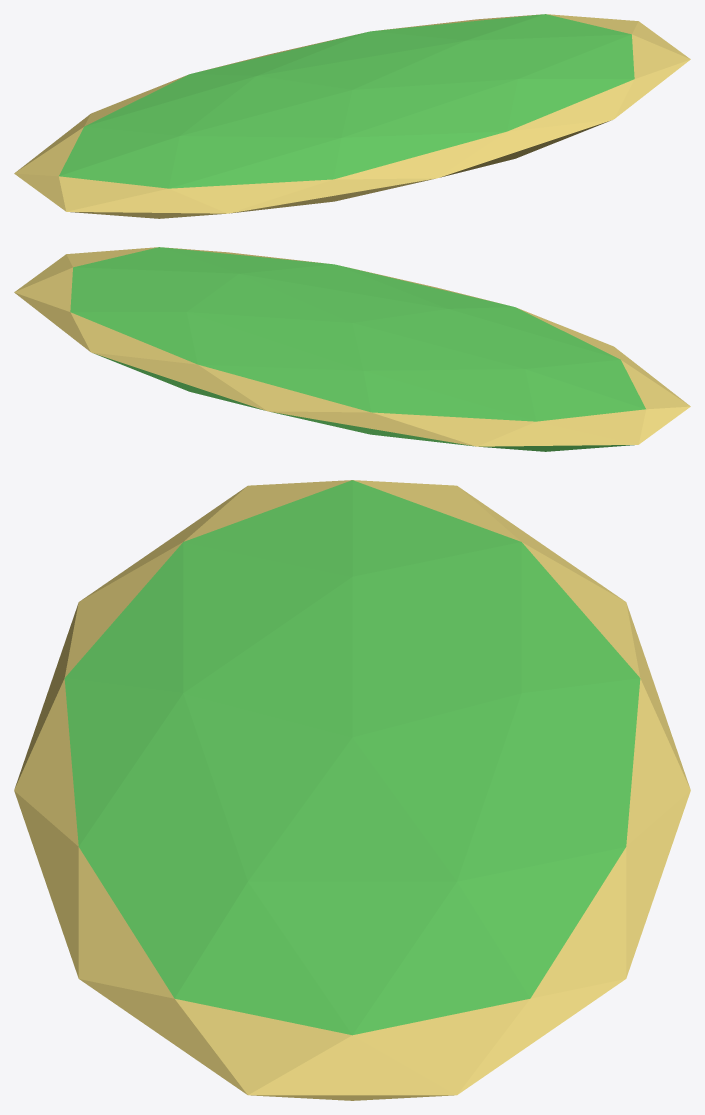
Rendered from land.gltf.
3 views of the same model, one above another, from view 1: azimuth 30°, elevation 25°; view 2: azimuth 150°, elevation 25°; view 3: azimuth 270°, elevation 25° (orthographic). The views are drawn at different scales.
Visible parts, largest first — view 1: Icosphere; view 2: Icosphere; view 3: Icosphere.
Boxes of the visible parts, box(x1,y1,x2,y2) form: Icosphere: box(14, 14, 690, 218); Icosphere: box(14, 247, 690, 451); Icosphere: box(14, 480, 690, 1100).
Bounding box in the file's own units: 53.86 × 4.37 × 25.26.
